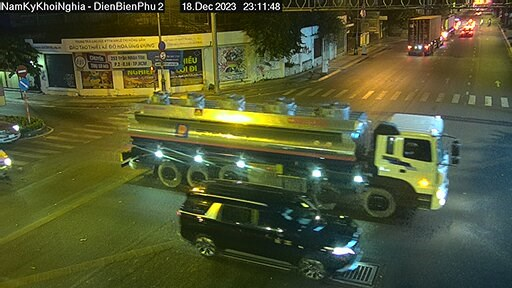car: (172, 176, 369, 280)
truck: (116, 86, 462, 216), (403, 15, 446, 57)
